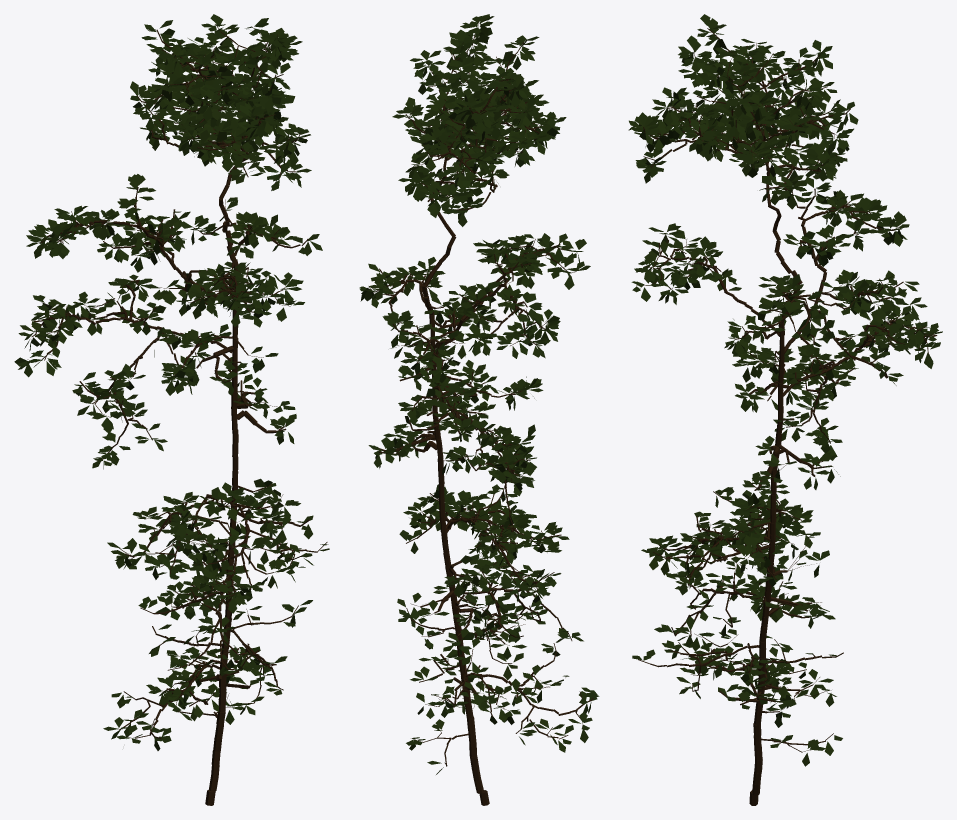
Rendered from tree_347.obj.
The picture shows the model from 3 angles, left to right: view 1: azimuth 30°, elevation 25°; view 2: azimuth 150°, elevation 25°; view 3: azimuth 270°, elevation 25°; orthographic projection. The views are drawn at different scales.
Visible parts, largest first — view 1: Leaves, TrunkAndBranches; view 2: Leaves, TrunkAndBranches; view 3: Leaves, TrunkAndBranches.
Part boxes in pixels (x1,y1,x2,y2): Leaves: [14, 14, 329, 750]; TrunkAndBranches: [27, 24, 327, 805]; Leaves: [359, 14, 599, 774]; TrunkAndBranches: [368, 21, 593, 805]; Leaves: [628, 14, 942, 766]; TrunkAndBranches: [636, 28, 937, 805].
Size of the model in its own units: 4.86 by 15.11 by 5.53.
